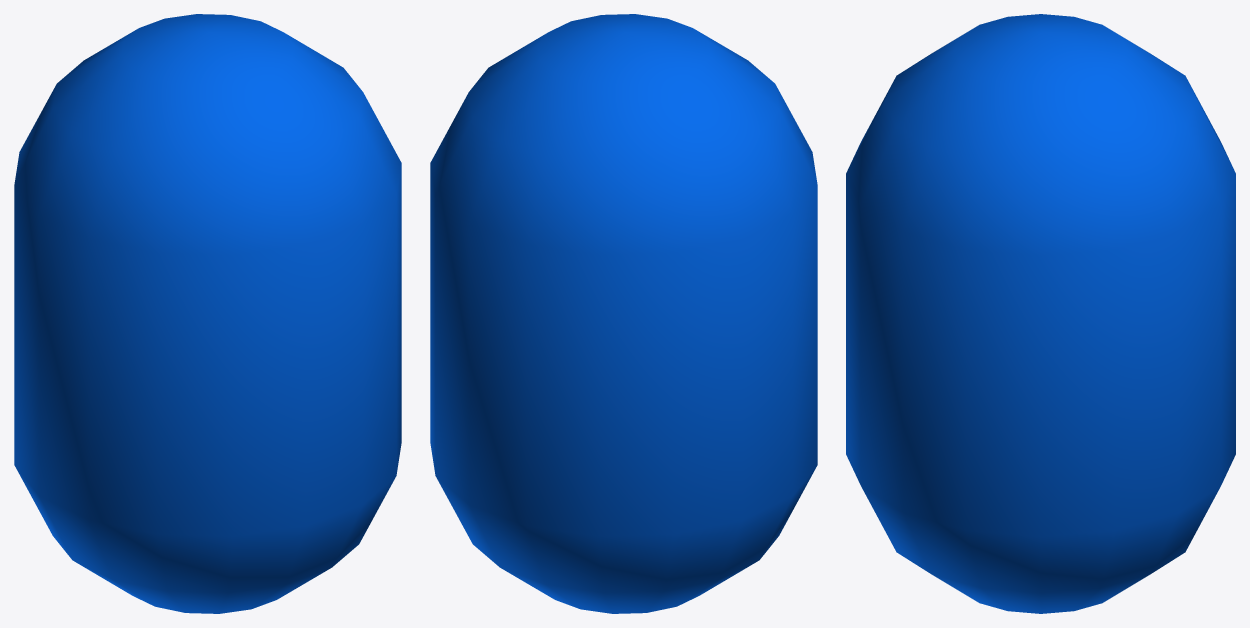
File: UIPanel_.fbx
3 views of the same model, side by side, from view 1: azimuth 30°, elevation 25°; view 2: azimuth 150°, elevation 25°; view 3: azimuth 270°, elevation 25° (orthographic).
Visible parts, largest first — view 1: Sphere.003; view 2: Sphere.003; view 3: Sphere.003.
Boxes of the visible parts, <box> form: Sphere.003: <box>14,14,401,613</box>; Sphere.003: <box>430,14,817,613</box>; Sphere.003: <box>846,14,1235,613</box>.
Size of the model in its own units: 27.31 by 43.48 by 27.31.
